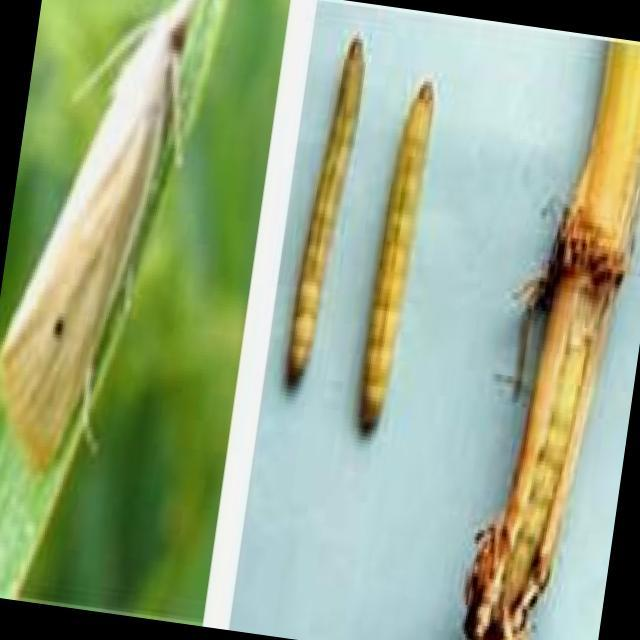stem borer: (0, 0, 213, 473), (287, 37, 363, 389), (358, 81, 433, 435)
